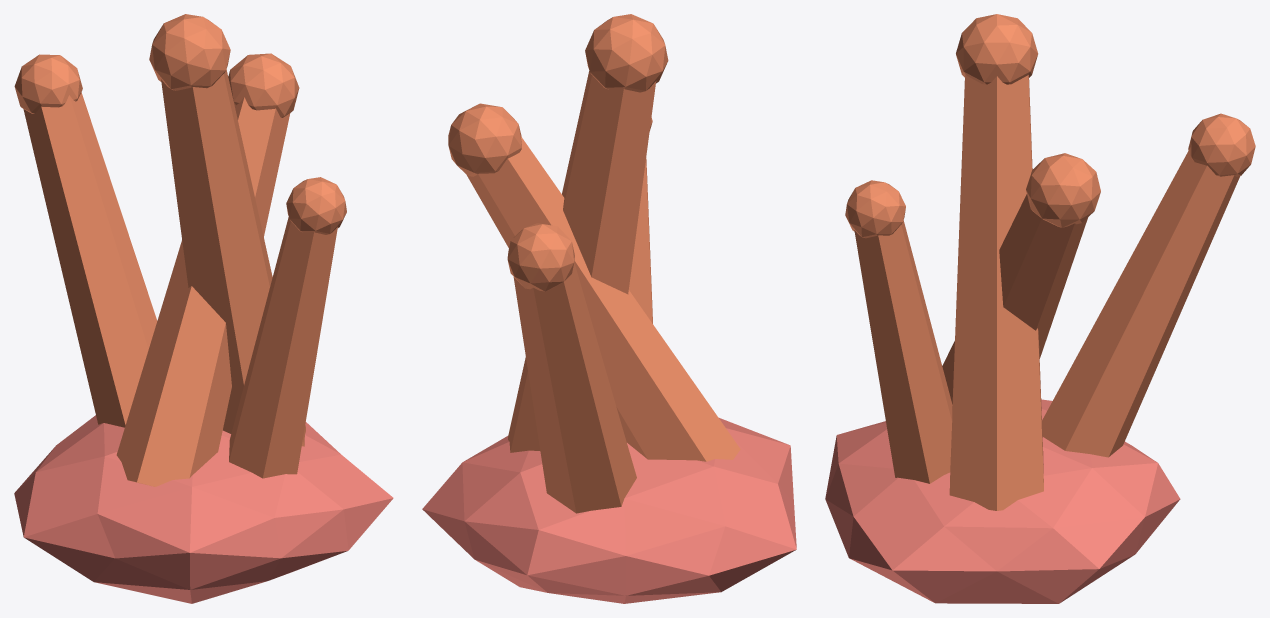
Rendered from deco_coral.obj.
3 renders of one model, left to right at view 1: azimuth 30°, elevation 25°; view 2: azimuth 150°, elevation 25°; view 3: azimuth 270°, elevation 25°, orthographic. The views are drawn at different scales.
Parts seen in each view (by area): view 1: deco_coral; view 2: deco_coral; view 3: deco_coral.
Part boxes in pixels (x1=…): deco_coral: x1=14, y1=14, x2=393, y2=603; deco_coral: x1=422, y1=14, x2=796, y2=603; deco_coral: x1=825, y1=14, x2=1255, y2=603.
Bounding box in the file's own units: 0.0403 × 0.0663 × 0.0469.
Materials: 1 (1 with a texture image).
